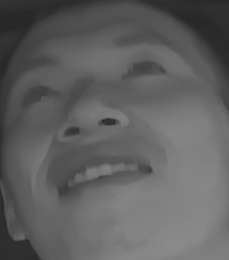eye: (117, 57, 171, 84), (16, 81, 62, 110)
mouth: (48, 151, 157, 201)
